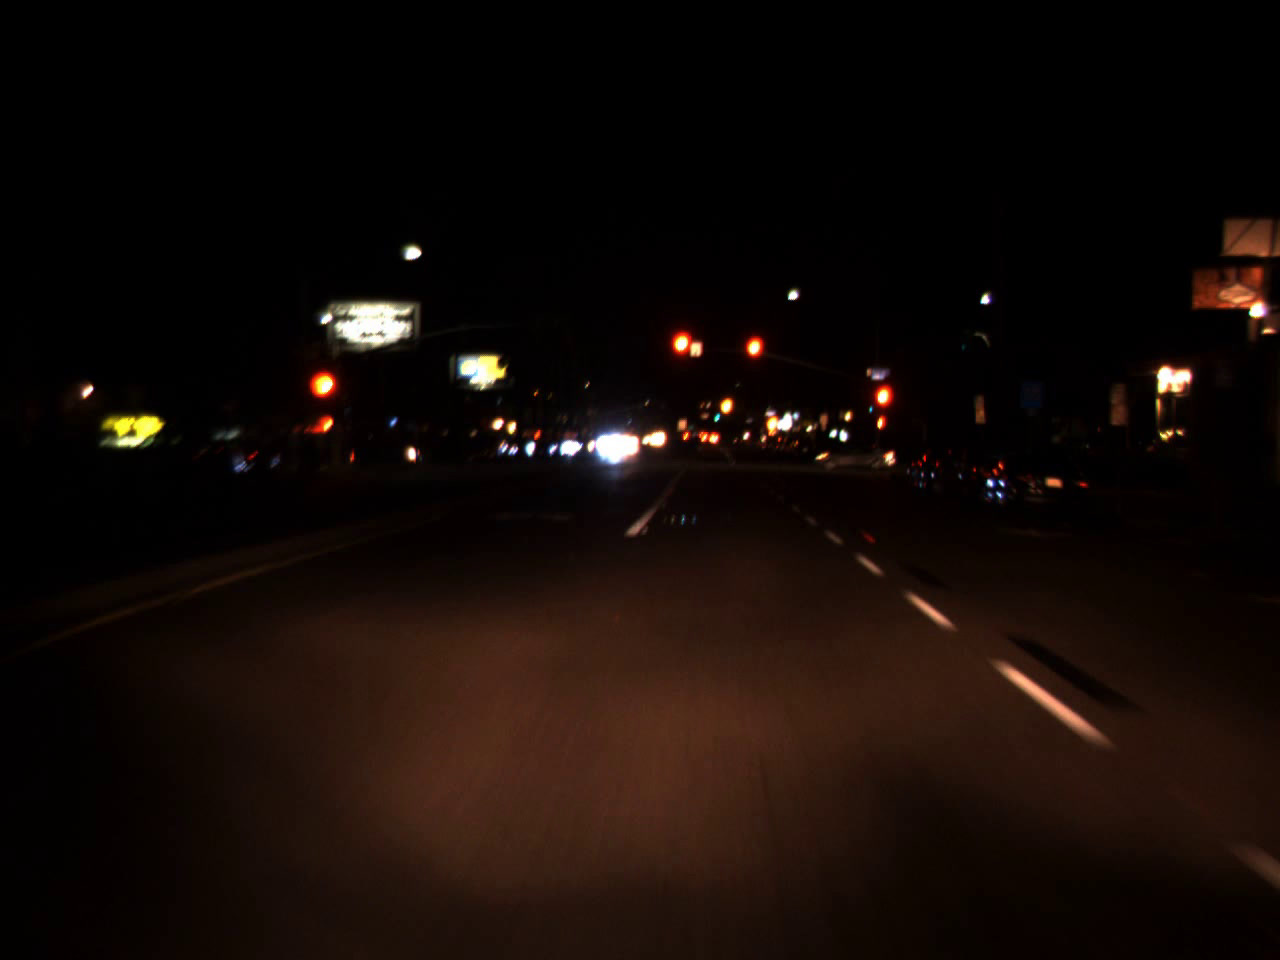go: (713, 407, 720, 422)
stop: (304, 367, 341, 431), (667, 326, 698, 385), (872, 381, 896, 435), (743, 333, 765, 381)
warning: (718, 387, 734, 424), (764, 406, 779, 436)
